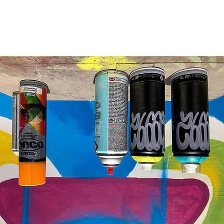aerosol_cans: (168, 63, 210, 176), (126, 64, 167, 172), (92, 68, 131, 178), (14, 78, 52, 188)
